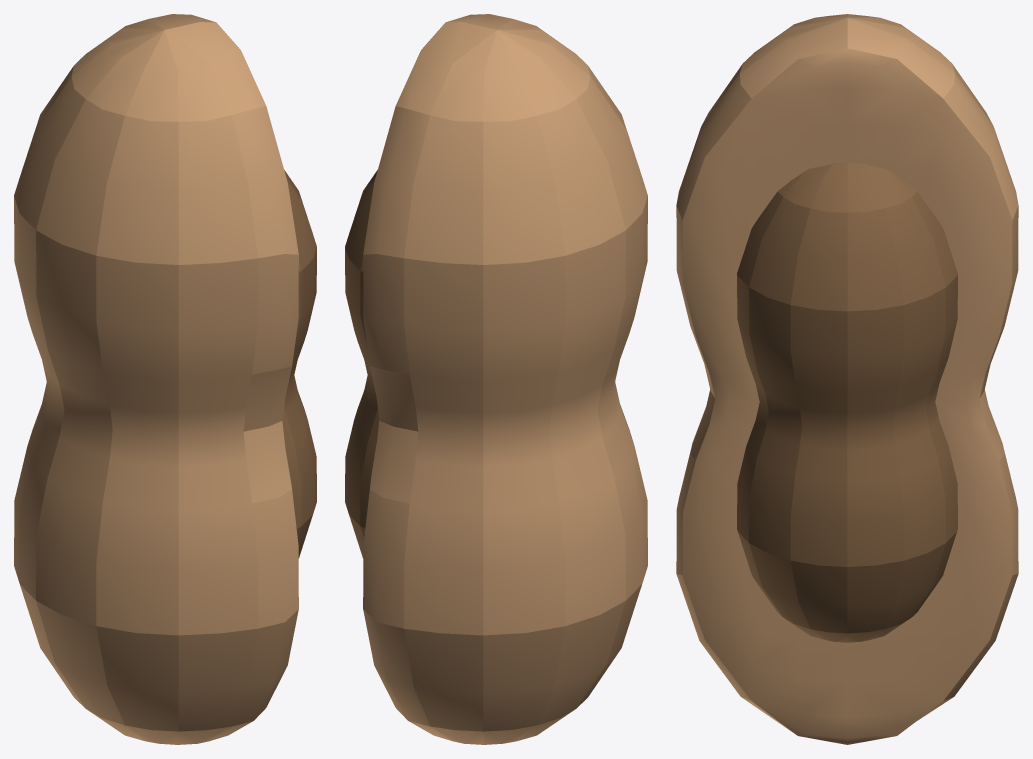
The model's file is Mani.glb.
3 views of the same model, side by side, from view 1: azimuth 30°, elevation 25°; view 2: azimuth 150°, elevation 25°; view 3: azimuth 270°, elevation 25° (orthographic).
Parts seen in each view (by area): view 1: pSphere2; view 2: pSphere2; view 3: pSphere2.
Part boxes in pixels (x1=…): pSphere2: x1=14, y1=14, x2=316, y2=744; pSphere2: x1=345, y1=14, x2=647, y2=744; pSphere2: x1=676, y1=14, x2=1018, y2=744.
Bounding box in the file's own units: 1.06 × 2.68 × 1.18.
1 material, 1 textured.
